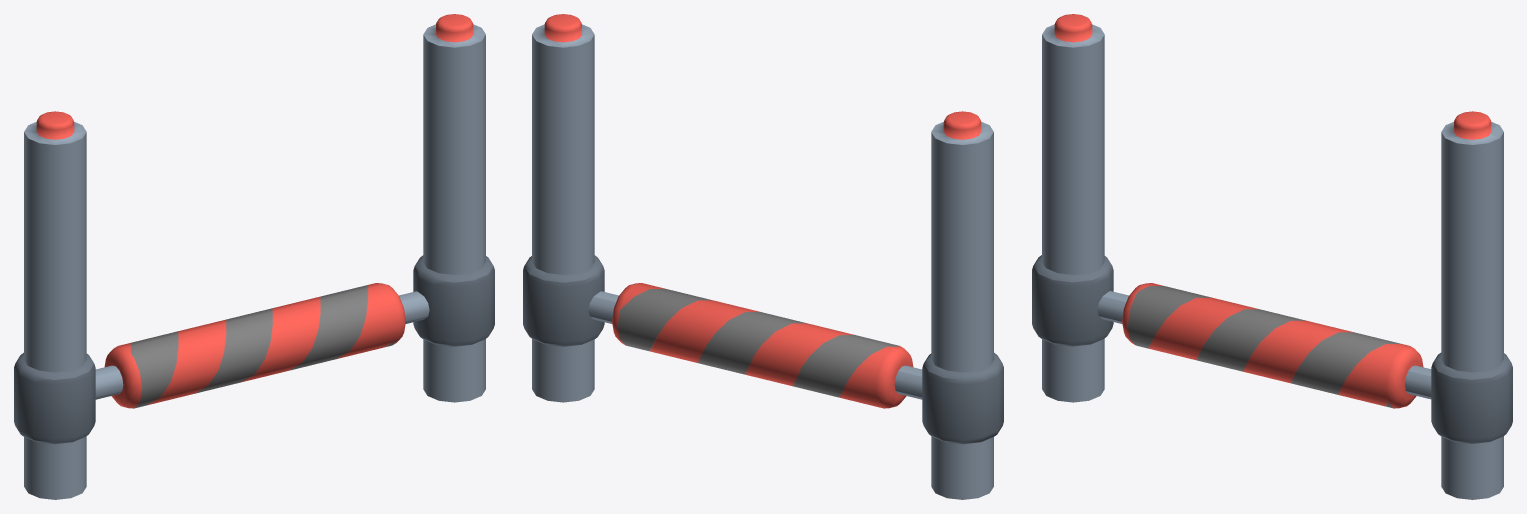
File: HorizontalStick02.fbx
The picture shows the model from 3 angles, left to right: view 1: azimuth 30°, elevation 25°; view 2: azimuth 150°, elevation 25°; view 3: azimuth 330°, elevation 25°; orthographic projection.
Parts seen in each view (by area): view 1: HorizontalStickBase.003, HorizontalStick.004, HorizontalStickArm.001; view 2: HorizontalStickBase.003, HorizontalStick.004, HorizontalStickArm.001; view 3: HorizontalStickBase.003, HorizontalStick.004, HorizontalStickArm.001.
Boxes of the visible parts, bbox=[...] form: HorizontalStickBase.003: bbox=[24, 14, 485, 499]; HorizontalStick.004: bbox=[104, 283, 405, 408]; HorizontalStickArm.001: bbox=[14, 255, 494, 444]; HorizontalStickBase.003: bbox=[532, 14, 993, 499]; HorizontalStick.004: bbox=[612, 283, 913, 408]; HorizontalStickArm.001: bbox=[523, 255, 1003, 444]; HorizontalStickBase.003: bbox=[1042, 14, 1503, 499]; HorizontalStick.004: bbox=[1122, 283, 1423, 408]; HorizontalStickArm.001: bbox=[1032, 255, 1512, 443].
Size of the model in its own units: 693 by 520 by 104.
